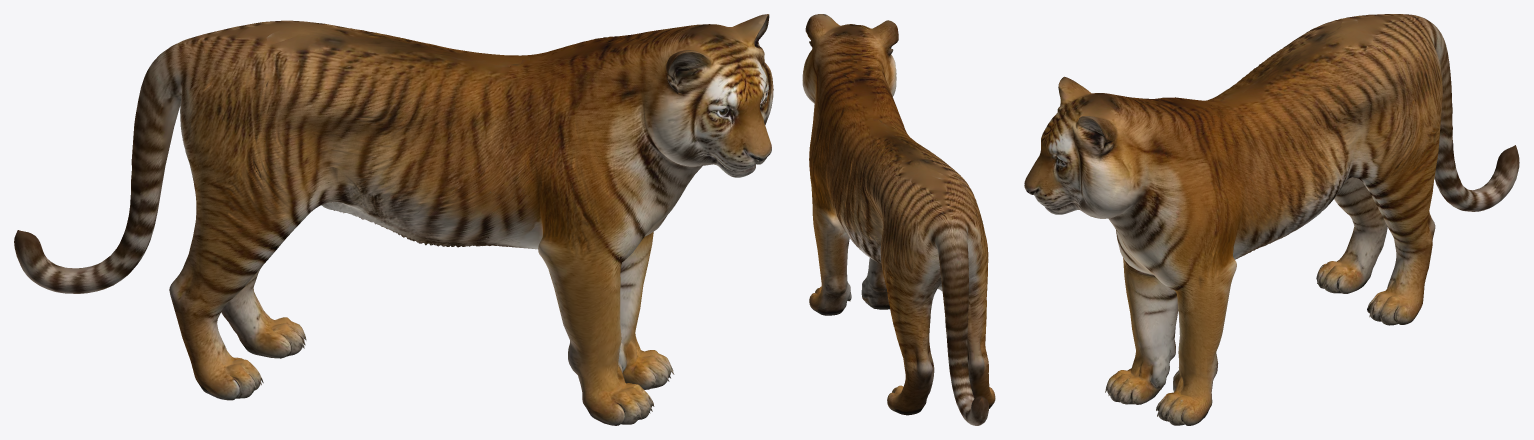
The model's file is tiger--caspian.glb.
3 renders of one model, left to right at view 1: azimuth 30°, elevation 25°; view 2: azimuth 150°, elevation 25°; view 3: azimuth 270°, elevation 25°, orthographic. The views are drawn at different scales.
Parts seen in each view (by area): view 1: node_0; view 2: node_0; view 3: node_0.
Boxes of the visible parts, <box> form: node_0: <box>14,14,773,425</box>; node_0: <box>802,14,995,425</box>; node_0: <box>1024,14,1519,425</box>.
Bounding box in the file's own units: 0.8331 × 0.6027 × 0.8203.
Materials: 1 (1 with a texture image).
